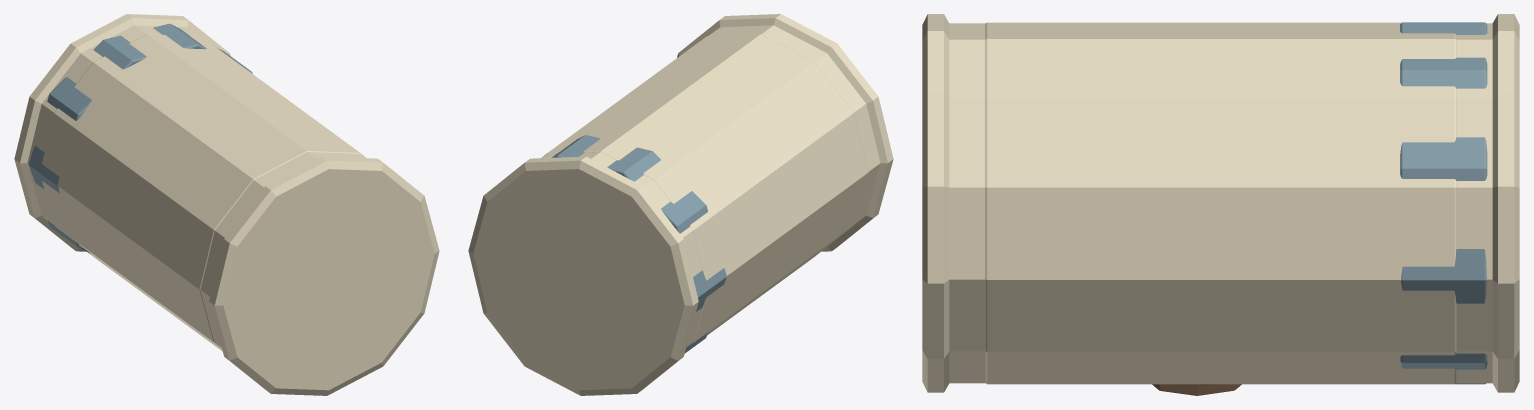
The model's file is coconut_milk.glb.
3 renders of one model, left to right at view 1: azimuth 30°, elevation 25°; view 2: azimuth 150°, elevation 25°; view 3: azimuth 270°, elevation 25°, orthographic. The views are drawn at different scales.
Parts seen in each view (by area): view 1: coconut_milk; view 2: coconut_milk; view 3: coconut_milk.
Part boxes in pixels (box(x1,y1,x2,y2)): coconut_milk: box(14, 14, 439, 395); coconut_milk: box(468, 14, 893, 395); coconut_milk: box(922, 14, 1519, 395).
Bounding box in the file's own units: 0.07 × 0.0721 × 0.11.
